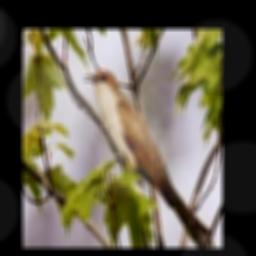Cuckoo: (83, 69, 215, 248)
